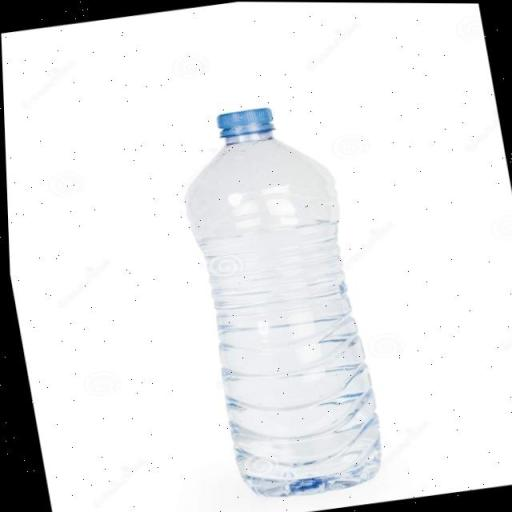plastic: (149, 89, 405, 512)
